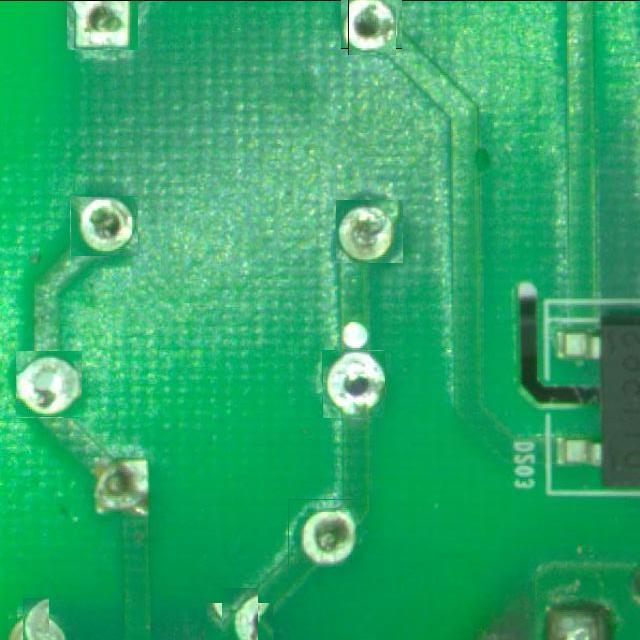lack_of_part: (288, 499, 364, 567), (16, 351, 82, 418), (322, 350, 385, 418), (336, 200, 403, 263), (70, 196, 138, 256), (67, 0, 138, 50), (344, 0, 399, 52), (213, 595, 265, 640), (15, 605, 58, 640)
